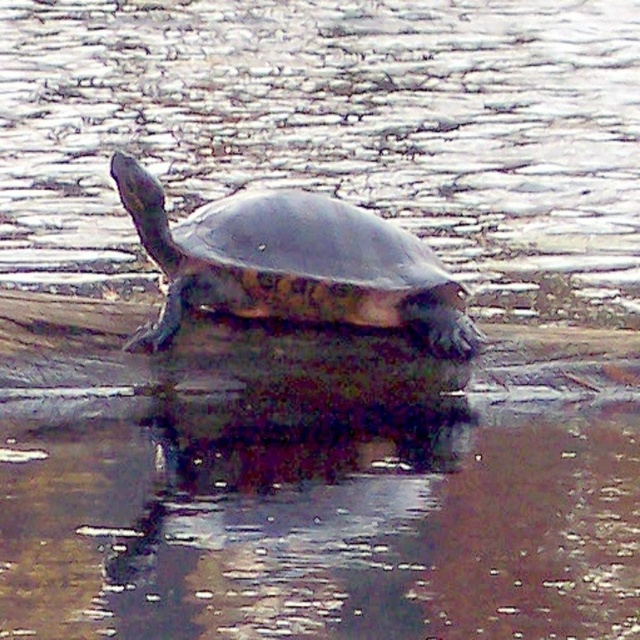Sea turtle: (101, 149, 483, 376)
